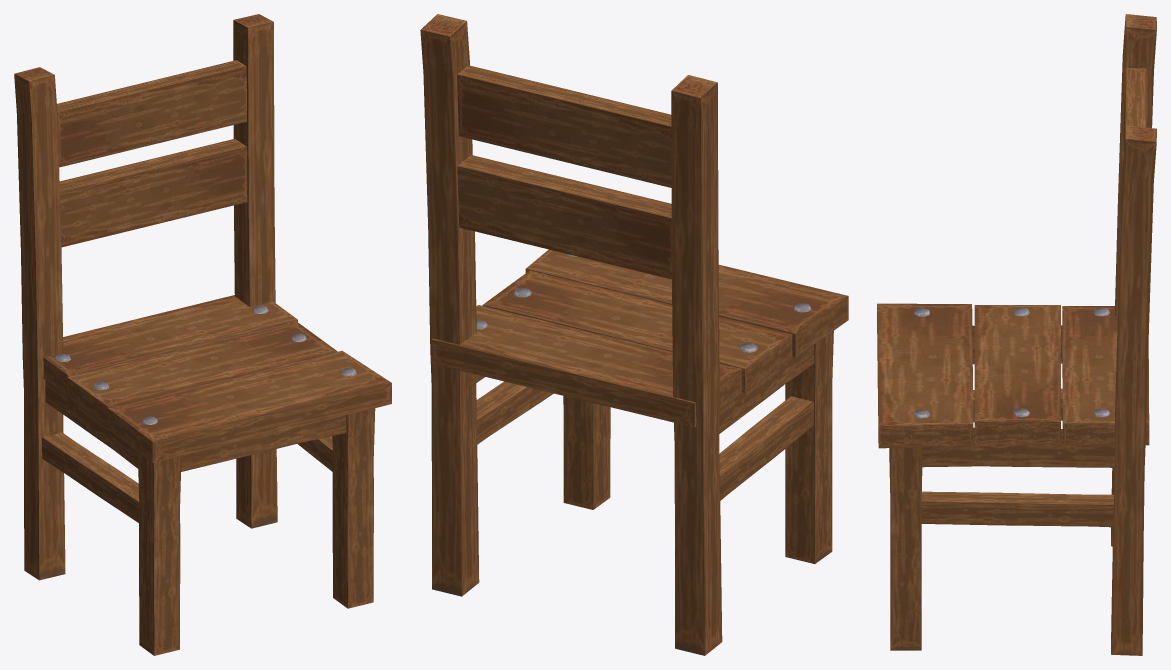
The model's file is prop-qp-chair-1.glb.
3 renders of one model, left to right at view 1: azimuth 30°, elevation 25°; view 2: azimuth 150°, elevation 25°; view 3: azimuth 270°, elevation 25°, orthographic. The views are drawn at different scales.
Parts seen in each view (by area): view 1: Cube_180; view 2: Cube_180; view 3: Cube_180.
Boxes of the visible parts, <box> form: Cube_180: <box>14,14,391,655</box>; Cube_180: <box>420,14,848,655</box>; Cube_180: <box>877,14,1156,655</box>.
Bounding box in the file's own units: 0.5805 × 1.12 × 0.5489.
Materials: 2 (2 with a texture image).
